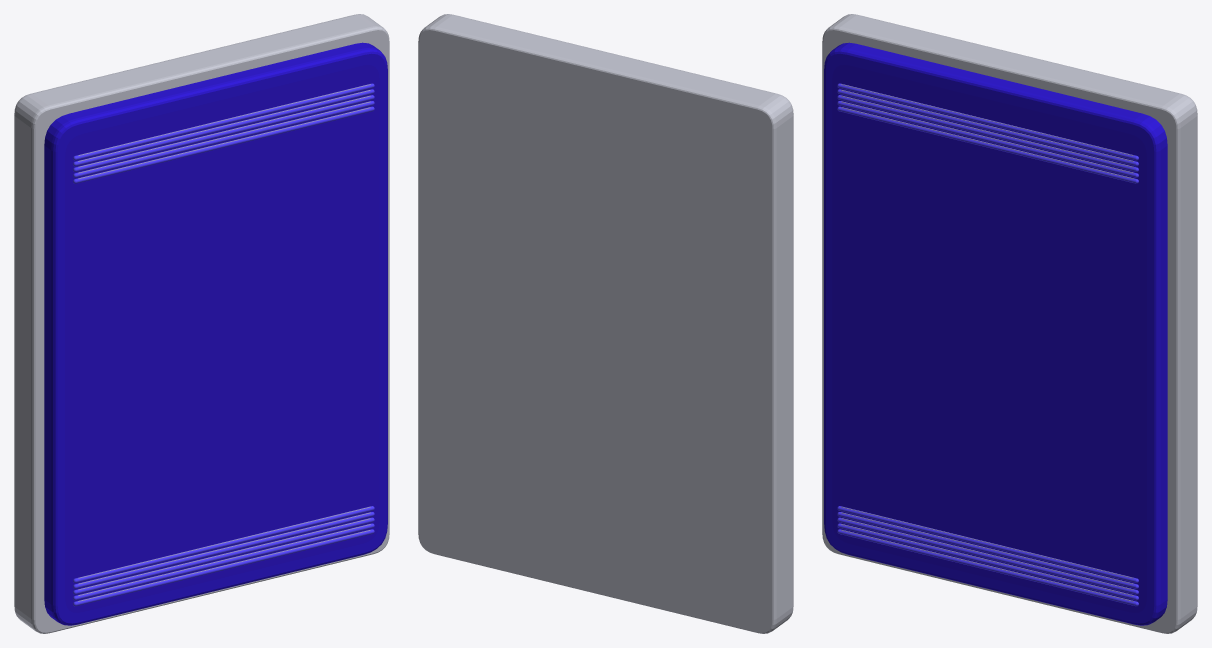
Rendered from futhub-standard-pack.glb.
The picture shows the model from 3 angles, left to right: view 1: azimuth 30°, elevation 25°; view 2: azimuth 150°, elevation 25°; view 3: azimuth 330°, elevation 25°; orthographic projection.
Visible parts, largest first — view 1: SM_StudioPack_ReferenceFace, SM_PlayerPack_SilverSeal, SM_PlayerPack_GlossyWrapper, SM_PlayerPack_BottomRib_4, SM_PlayerPack_TopRib_4, SM_PlayerPack_BottomRib_3, SM_PlayerPack_TopRib_3, SM_PlayerPack_BottomRib_0, SM_PlayerPack_TopRib_2, SM_PlayerPack_BottomRib_2, SM_PlayerPack_TopRib_0, SM_PlayerPack_BottomRib_1 (+1 smaller); view 2: SM_PlayerPack_SilverSeal; view 3: SM_StudioPack_ReferenceFace, SM_PlayerPack_SilverSeal, SM_PlayerPack_GlossyWrapper, SM_PlayerPack_BottomRib_4, SM_PlayerPack_TopRib_4, SM_PlayerPack_BottomRib_3, SM_PlayerPack_TopRib_3, SM_PlayerPack_BottomRib_0, SM_PlayerPack_TopRib_2, SM_PlayerPack_BottomRib_2, SM_PlayerPack_TopRib_0, SM_PlayerPack_BottomRib_1 (+1 smaller).
Boxes of the visible parts, bbox=[...] form: SM_StudioPack_ReferenceFace: bbox=[65, 65, 379, 612]; SM_PlayerPack_SilverSeal: bbox=[14, 14, 389, 633]; SM_PlayerPack_GlossyWrapper: bbox=[44, 42, 387, 625]; SM_PlayerPack_BottomRib_4: bbox=[73, 529, 374, 606]; SM_PlayerPack_TopRib_4: bbox=[73, 83, 374, 160]; SM_PlayerPack_BottomRib_3: bbox=[73, 523, 374, 600]; SM_PlayerPack_TopRib_3: bbox=[73, 89, 374, 166]; SM_PlayerPack_BottomRib_0: bbox=[73, 506, 374, 582]; SM_PlayerPack_TopRib_2: bbox=[73, 95, 374, 171]; SM_PlayerPack_BottomRib_2: bbox=[73, 517, 374, 594]; SM_PlayerPack_TopRib_0: bbox=[73, 106, 374, 183]; SM_PlayerPack_BottomRib_1: bbox=[73, 512, 374, 588]; SM_PlayerPack_SilverSeal: bbox=[418, 14, 793, 633]; SM_StudioPack_ReferenceFace: bbox=[832, 65, 1146, 612]; SM_PlayerPack_SilverSeal: bbox=[822, 14, 1197, 633]; SM_PlayerPack_GlossyWrapper: bbox=[824, 42, 1167, 625]; SM_PlayerPack_BottomRib_4: bbox=[837, 529, 1138, 606]; SM_PlayerPack_TopRib_4: bbox=[837, 83, 1138, 160]; SM_PlayerPack_BottomRib_3: bbox=[837, 523, 1138, 600]; SM_PlayerPack_TopRib_3: bbox=[837, 89, 1138, 166]; SM_PlayerPack_BottomRib_0: bbox=[837, 506, 1138, 582]; SM_PlayerPack_TopRib_2: bbox=[837, 95, 1138, 171]; SM_PlayerPack_BottomRib_2: bbox=[837, 517, 1138, 594]; SM_PlayerPack_TopRib_0: bbox=[837, 106, 1138, 183]; SM_PlayerPack_BottomRib_1: bbox=[837, 512, 1138, 588].
Size of what is drawn, in the model's own units: 3.04 by 4.28 by 0.4881.
